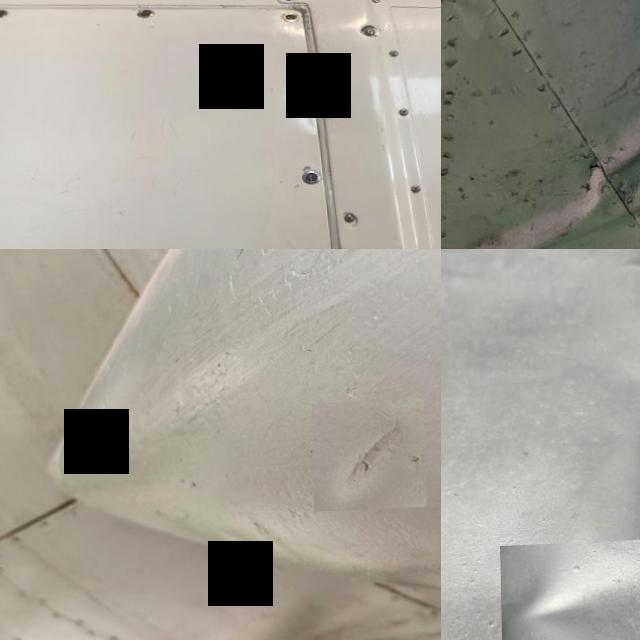Crack: (577, 166, 601, 206)
Dent: (458, 45, 640, 249), (498, 543, 640, 640), (310, 403, 424, 515)
Missing_Fastener: (322, 110, 337, 120)
